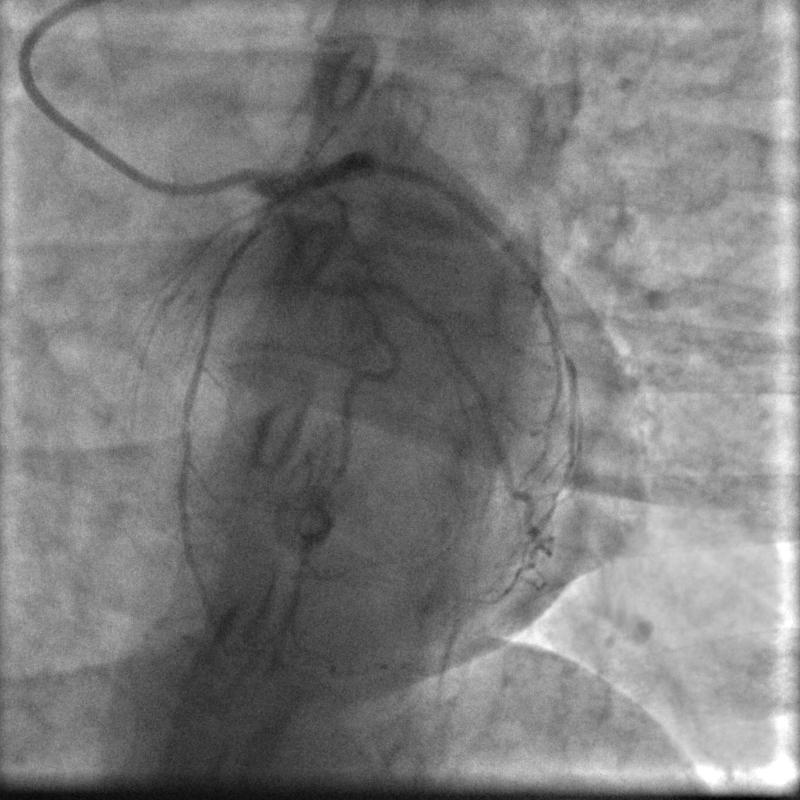Stenosis: (307, 257, 355, 304)
